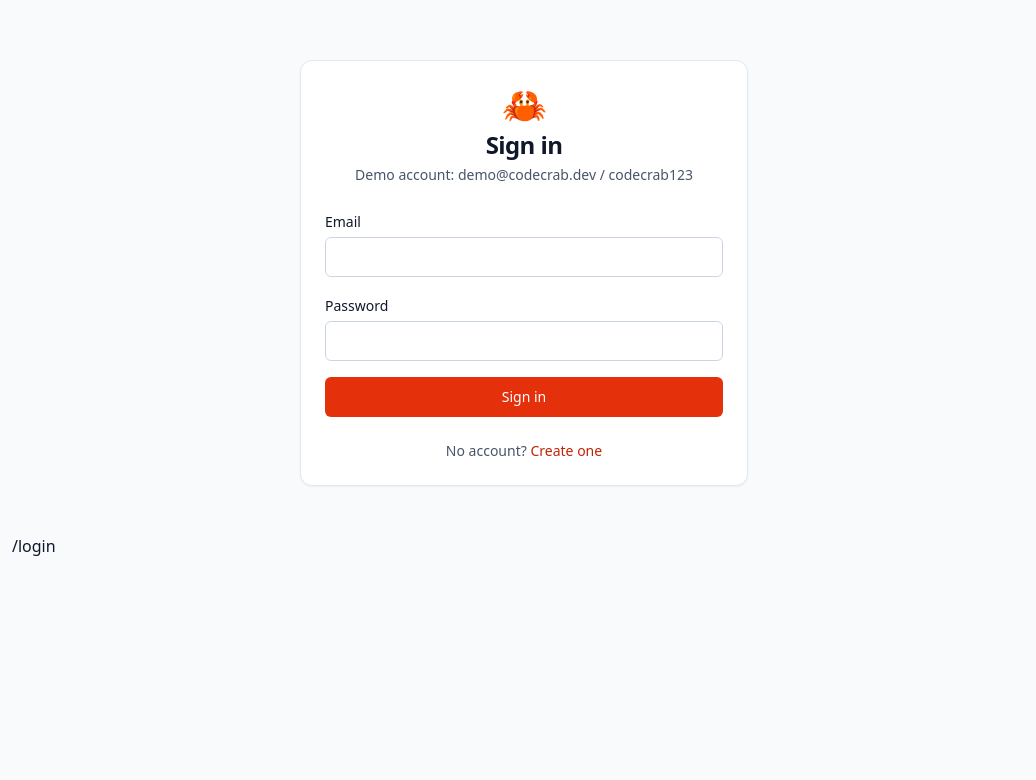
Test: Login page › returns the user to the page they came from
Type "demo@codecrab.dev" into the field labelled "Email". click: coordinates (524, 257)
box: [325,237,723,277]
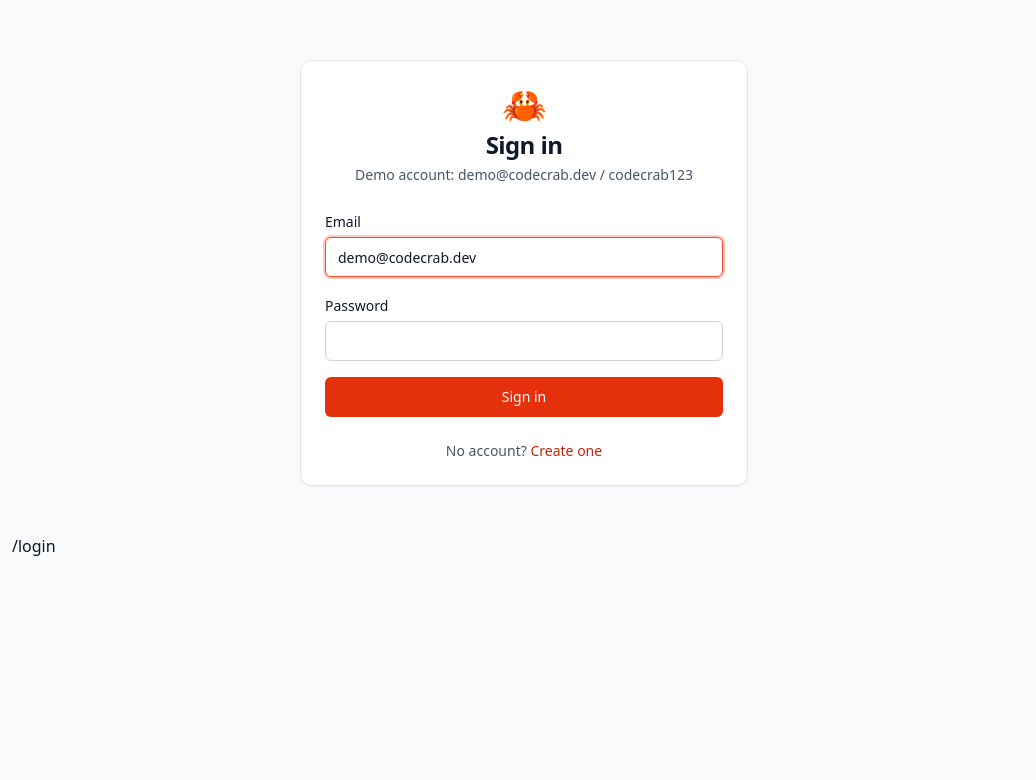
Type "codecrab123" into the password field labelled "Password". click: coordinates (524, 341)
box: [325,321,723,361]
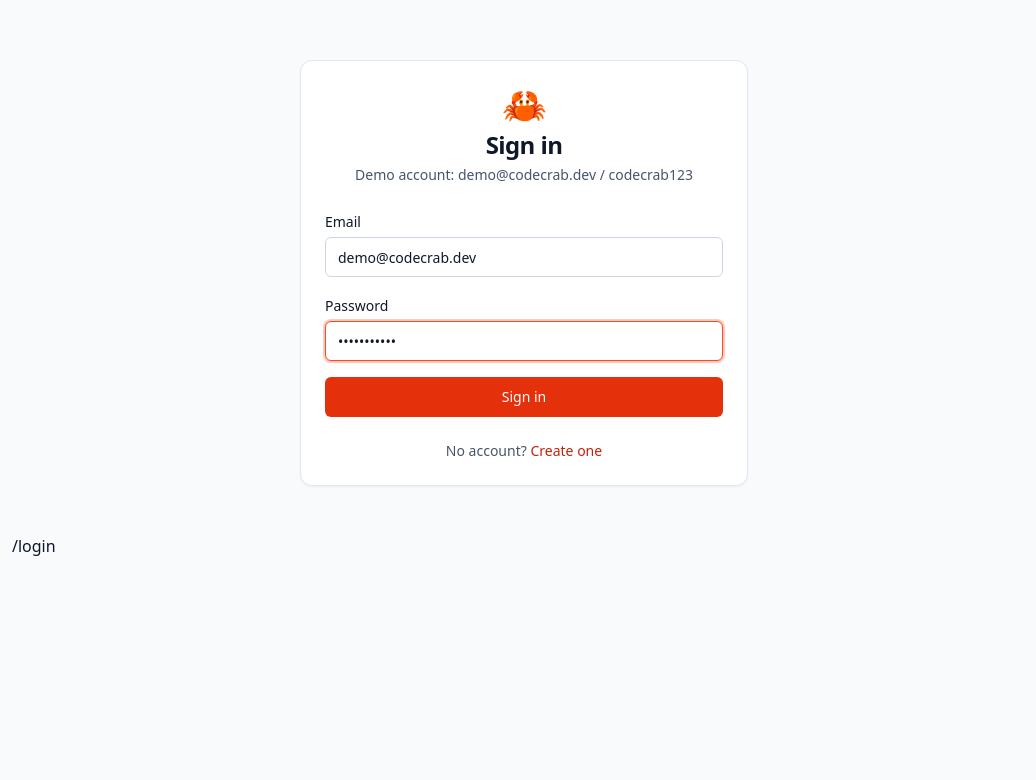
Click the button "Sign in". click: coordinates (524, 397)
box: [325,377,723,417]
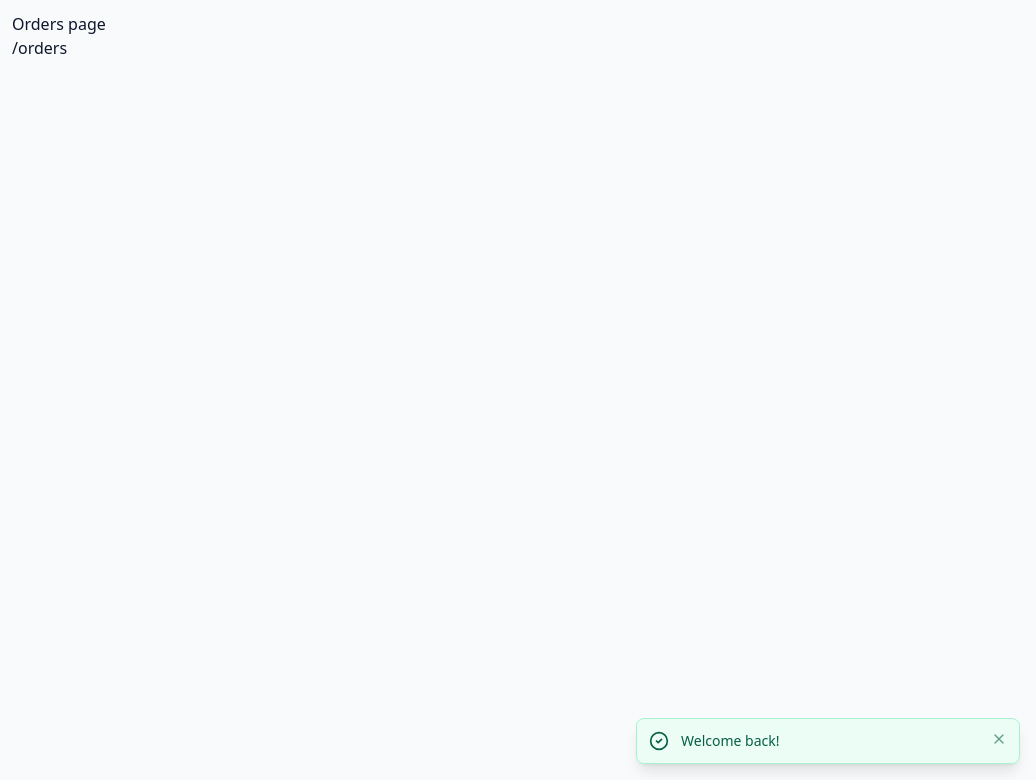
Expected: the text "Orders page" is shown, [12,13,106,35]
